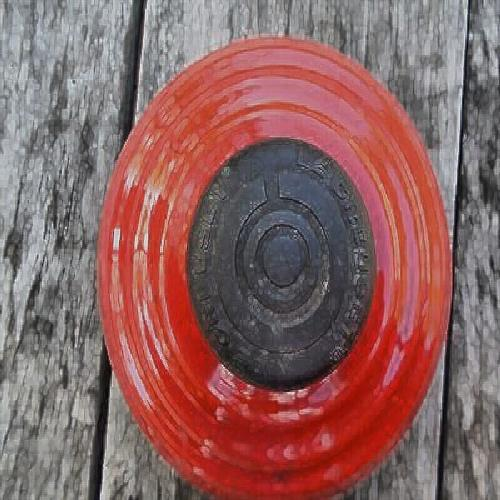kettle: (114, 56, 448, 479)
